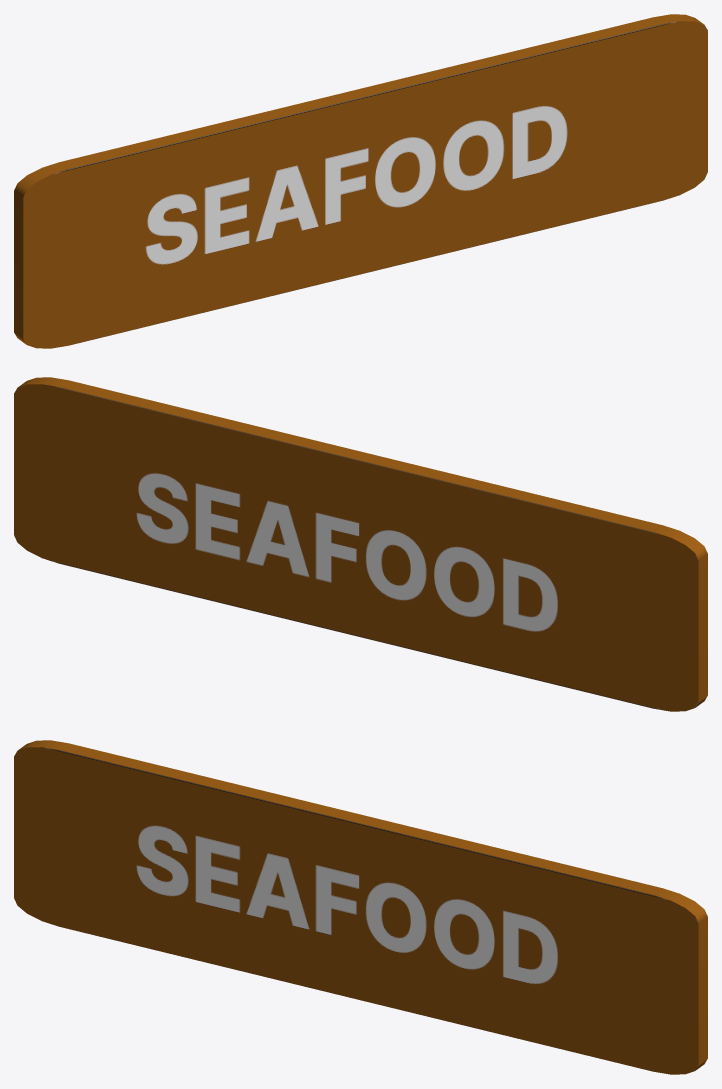
Rendered from seafood-sign.fbx.
3 renders of one model, top to bottom at view 1: azimuth 30°, elevation 25°; view 2: azimuth 150°, elevation 25°; view 3: azimuth 330°, elevation 25°, orthographic.
Parts seen in each view (by area): view 1: pasted__pCube1; view 2: pasted__pCube1; view 3: pasted__pCube1.
Boxes of the visible parts, x1,y1,x2,y2 form: pasted__pCube1: [14, 14, 707, 348]; pasted__pCube1: [14, 377, 707, 711]; pasted__pCube1: [14, 740, 707, 1074].
Size of the model in its own units: 42.52 by 10.49 by 1.
